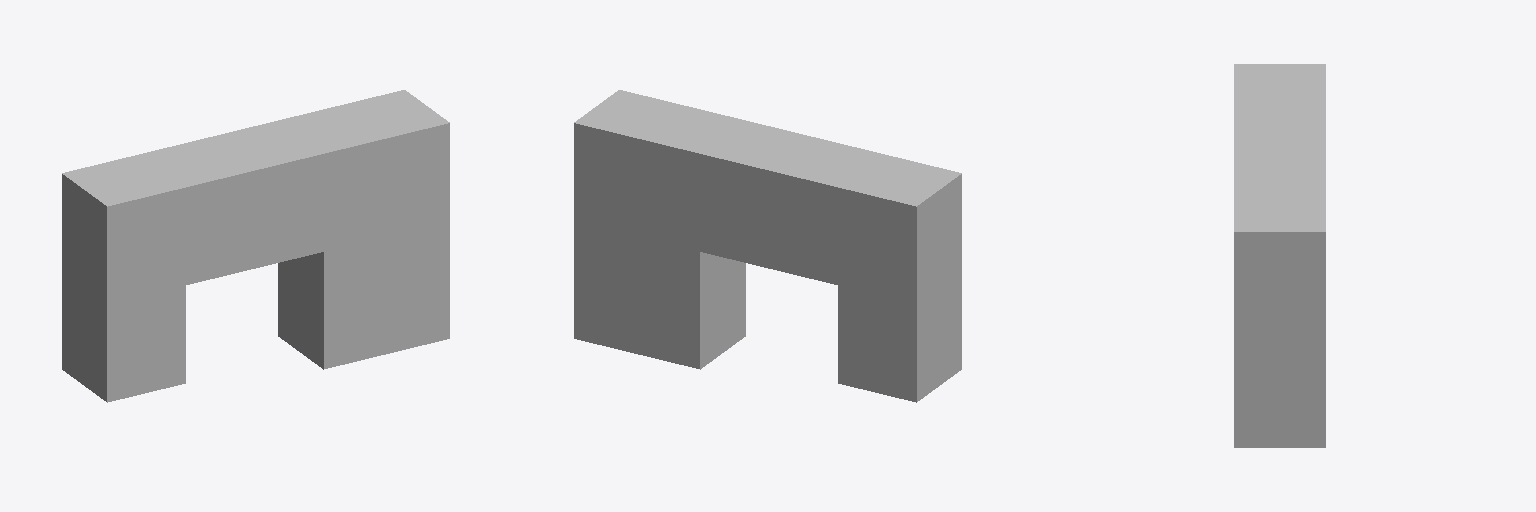
Rendered from doorTest.obj.
3 views of the same model, side by side, from view 1: azimuth 30°, elevation 25°; view 2: azimuth 150°, elevation 25°; view 3: azimuth 270°, elevation 25° (orthographic).
Visible parts, largest first — view 1: Cube; view 2: Cube; view 3: Cube.
Boxes of the visible parts, x1=… form: Cube: x1=62, y1=90, x2=449, y2=402; Cube: x1=574, y1=90, x2=961, y2=402; Cube: x1=1234, y1=64, x2=1325, y2=447.
Bounding box in the file's own units: 8.7 × 5.23 × 2.